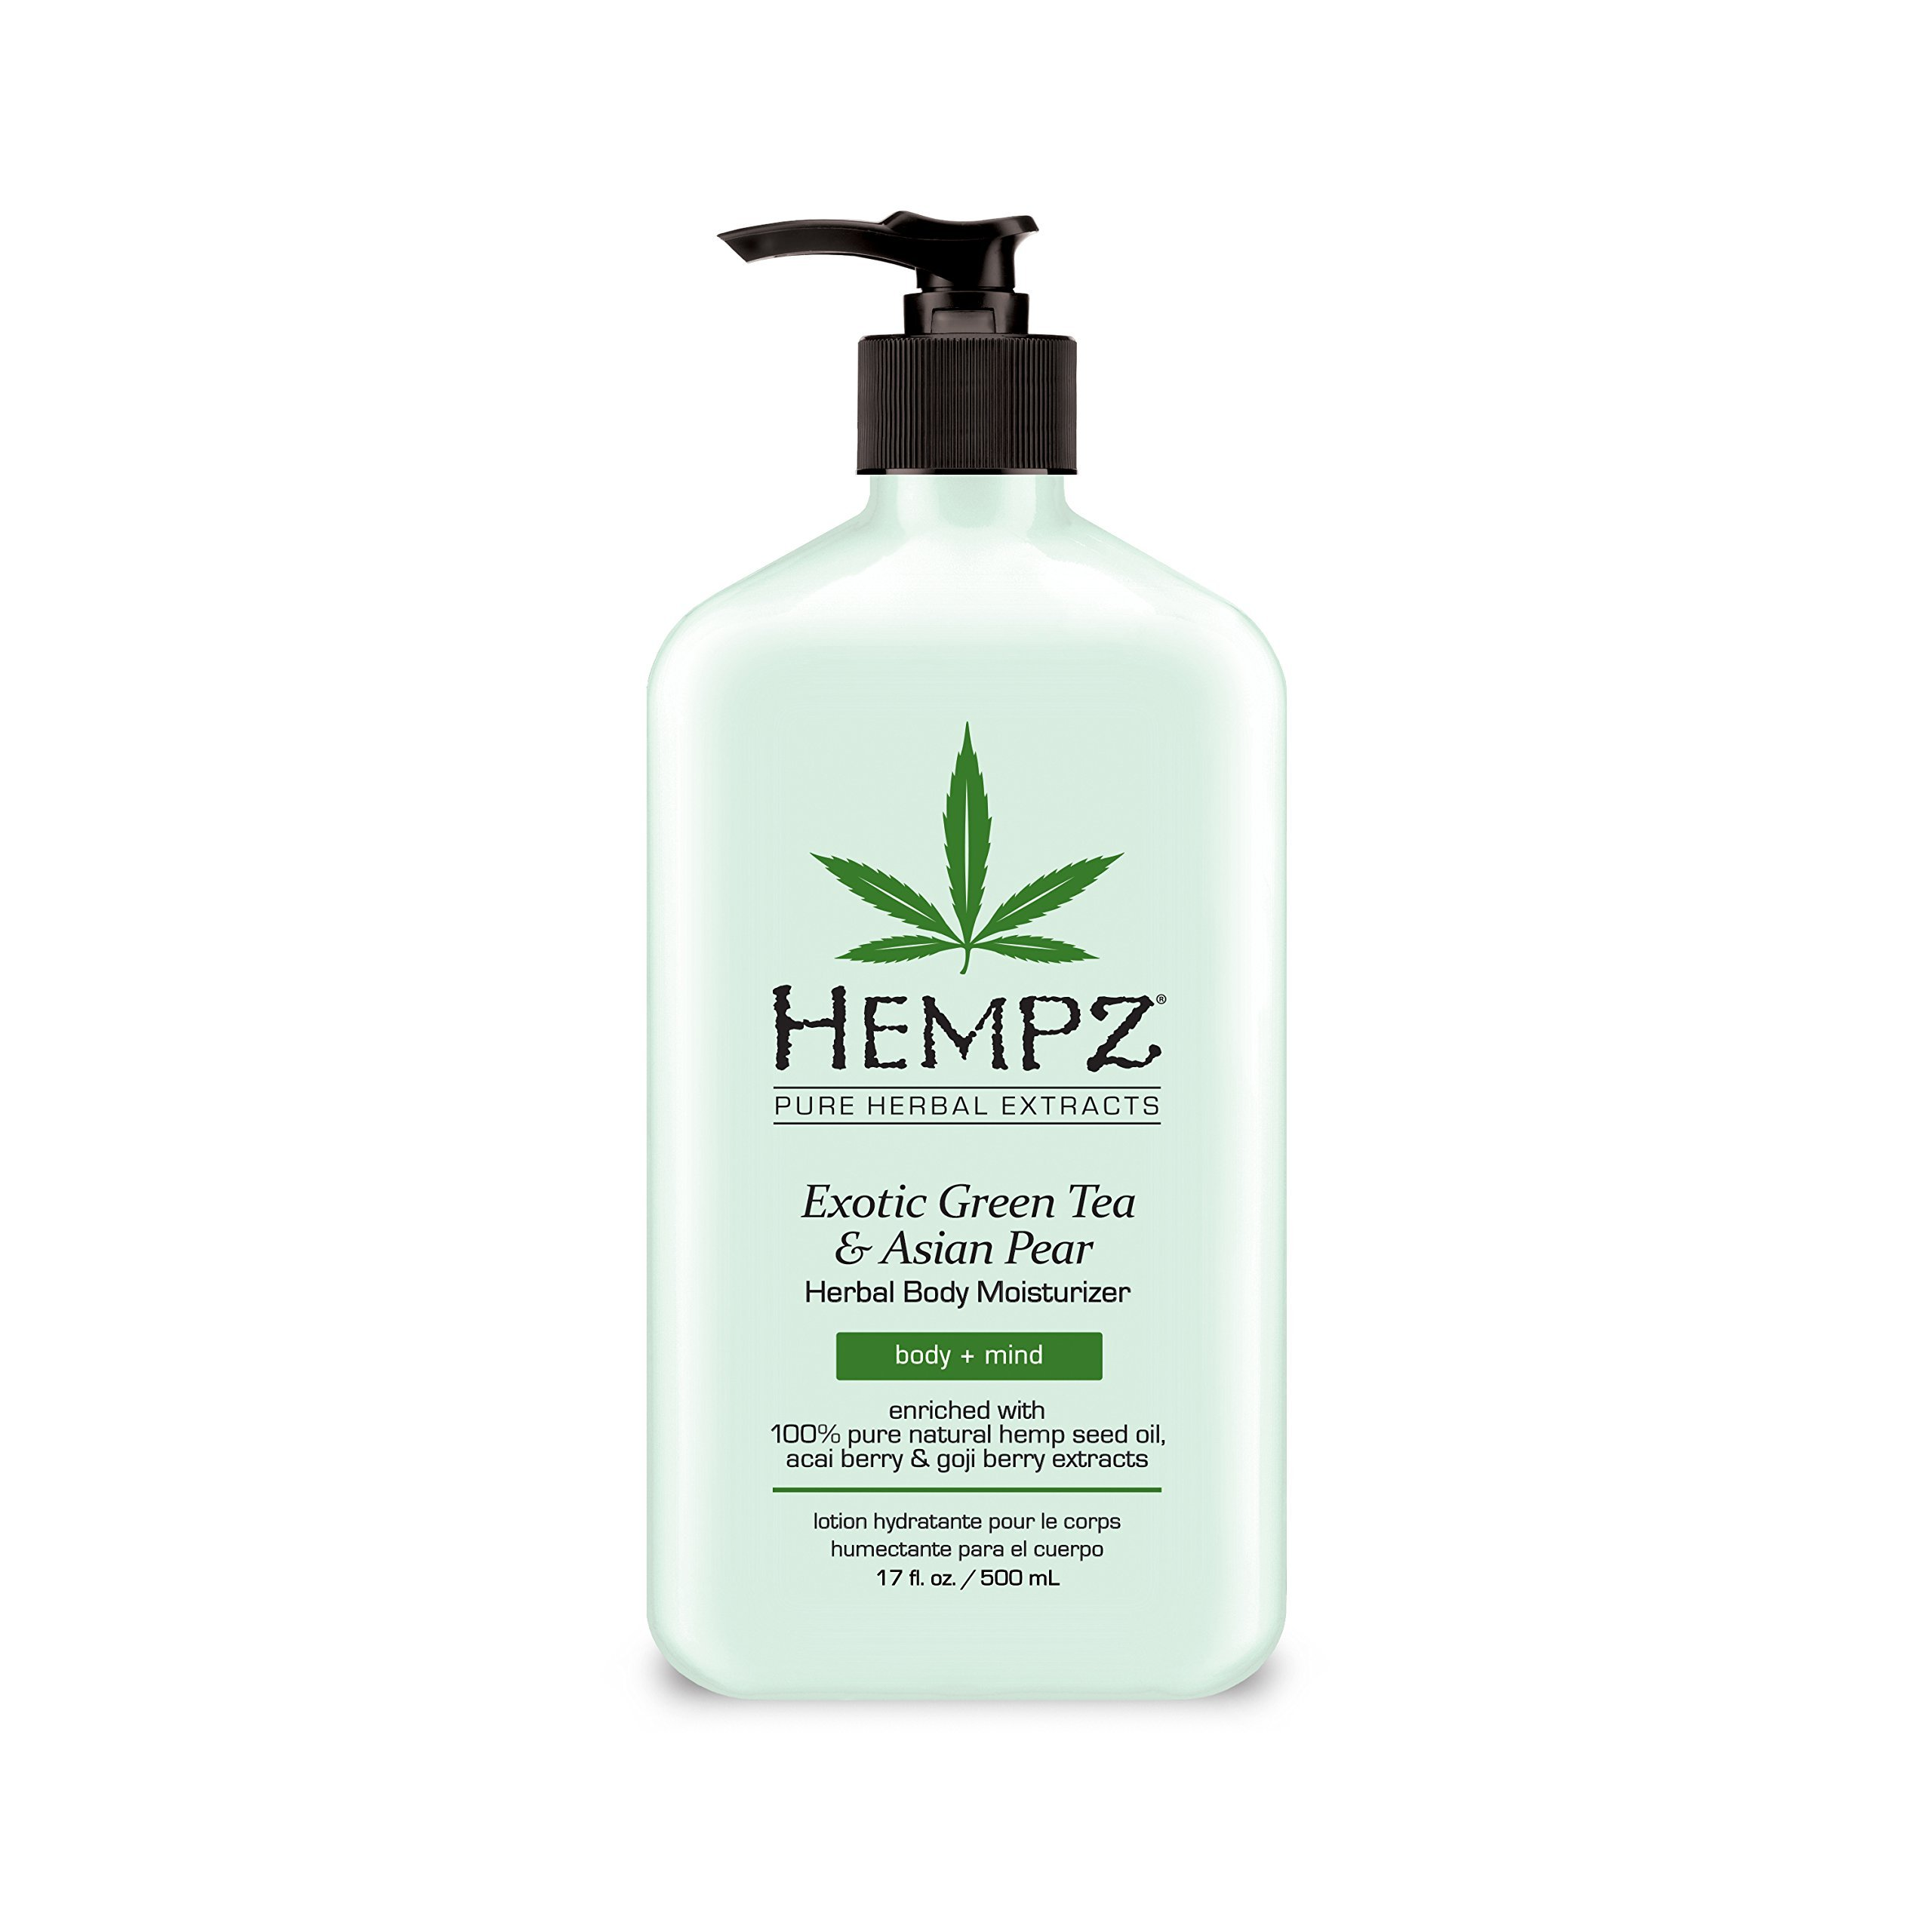Nonrec_Plastic: (586, 154, 1330, 1755)
